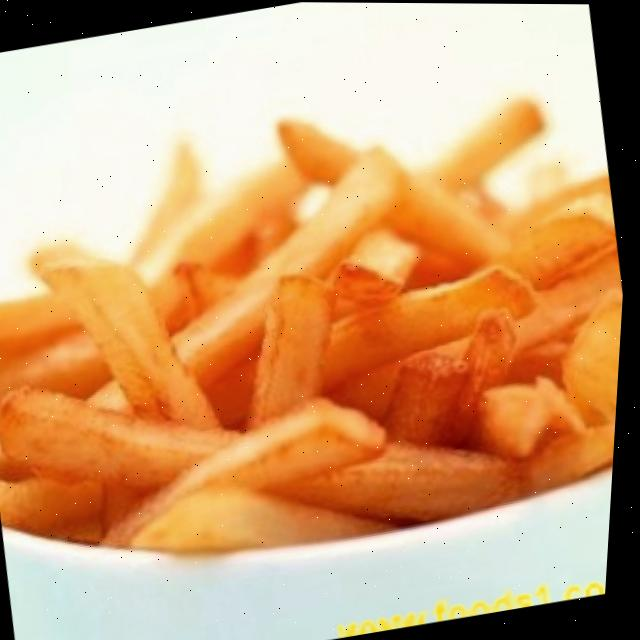炸货点心: (0, 60, 637, 621)
